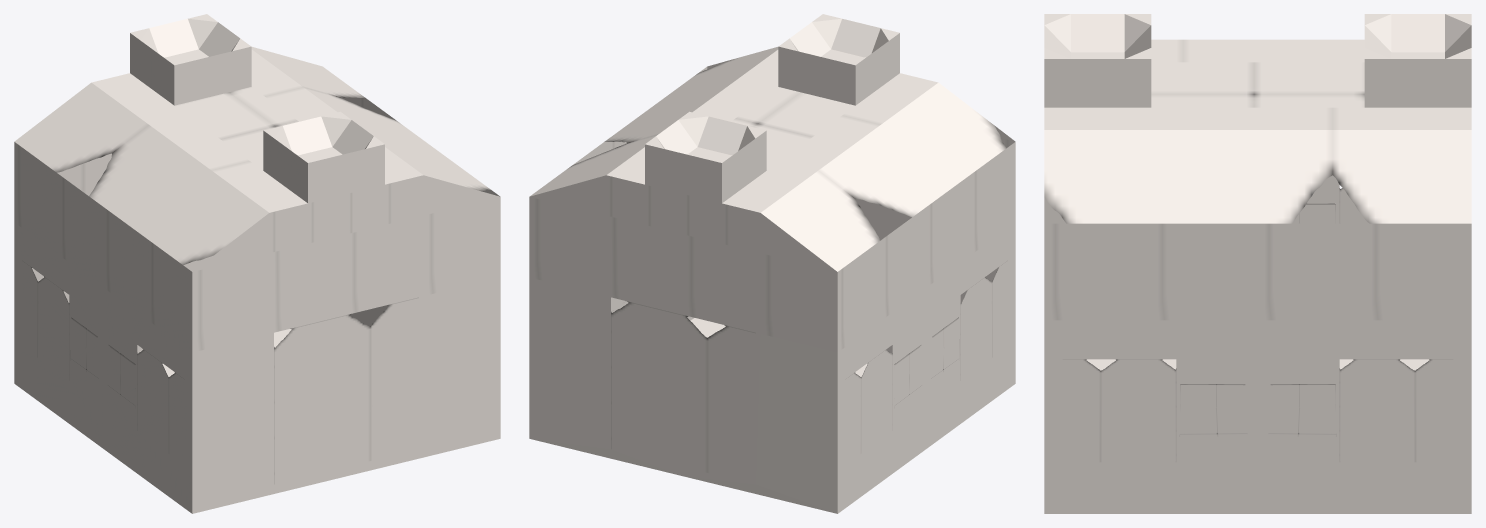
File: tradingtable.obj
The picture shows the model from 3 angles, left to right: view 1: azimuth 30°, elevation 25°; view 2: azimuth 150°, elevation 25°; view 3: azimuth 270°, elevation 25°; orthographic projection. The views are drawn at different scales.
Visible parts, largest first — view 1: Cube; view 2: Cube; view 3: Cube.
Part boxes in pixels (x1=…): Cube: x1=14, y1=14, x2=500, y2=513; Cube: x1=529, y1=14, x2=1015, y2=513; Cube: x1=1044, y1=14, x2=1471, y2=513.
Size of the model in its own units: 1 by 1 by 1.
